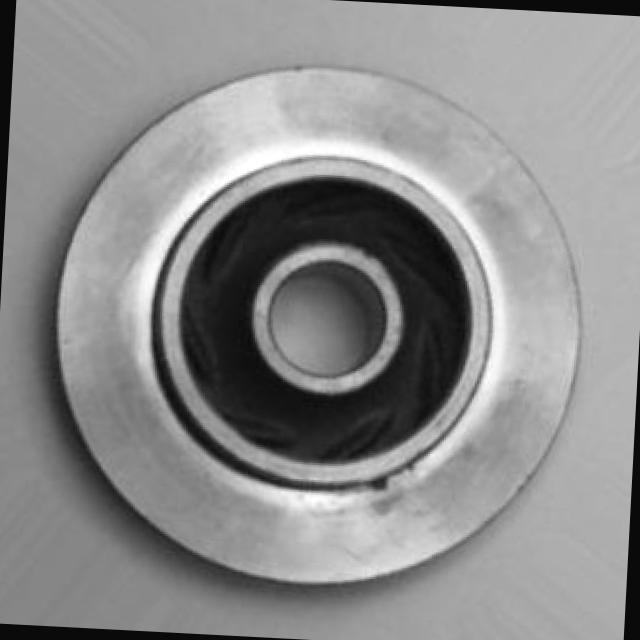Defect: (368, 476, 398, 494)
